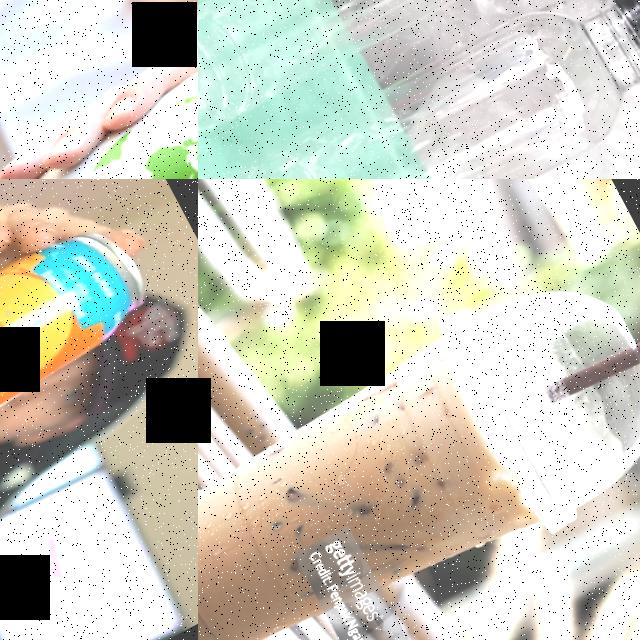bottle: (202, 0, 640, 179), (198, 0, 617, 147)
can: (0, 205, 180, 591)
cup: (198, 241, 640, 640), (0, 0, 198, 179)
